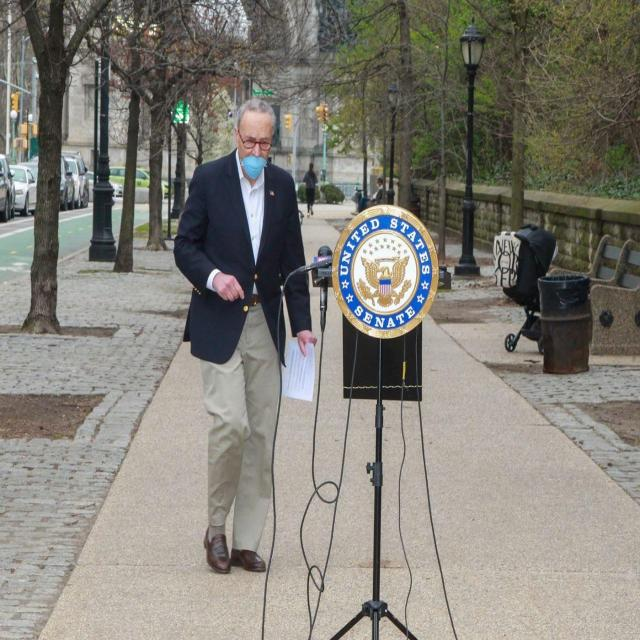mask: (216, 138, 280, 196)
